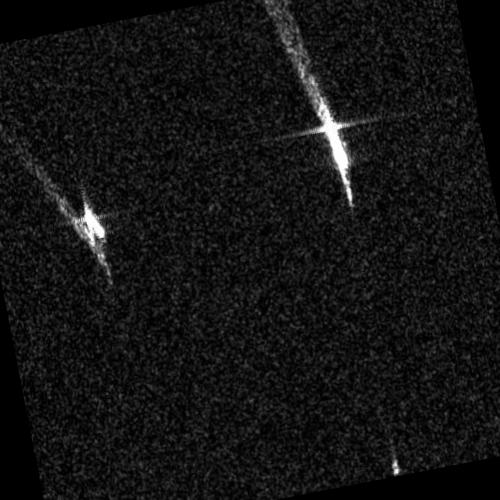ship: (317, 97, 350, 177), (83, 202, 105, 240)
